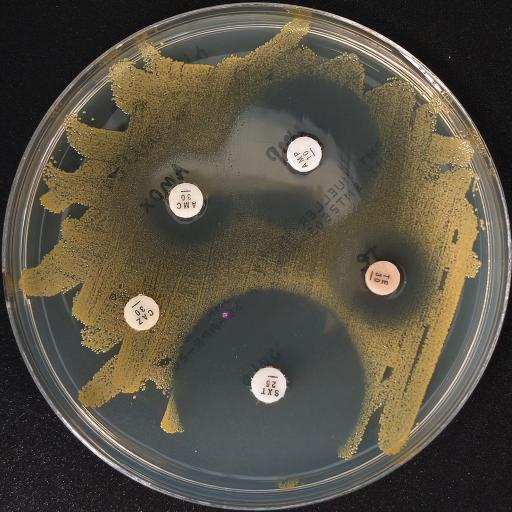disc: (250, 366, 286, 404), (123, 295, 159, 331), (168, 182, 204, 218), (286, 136, 322, 172), (364, 260, 400, 296)
